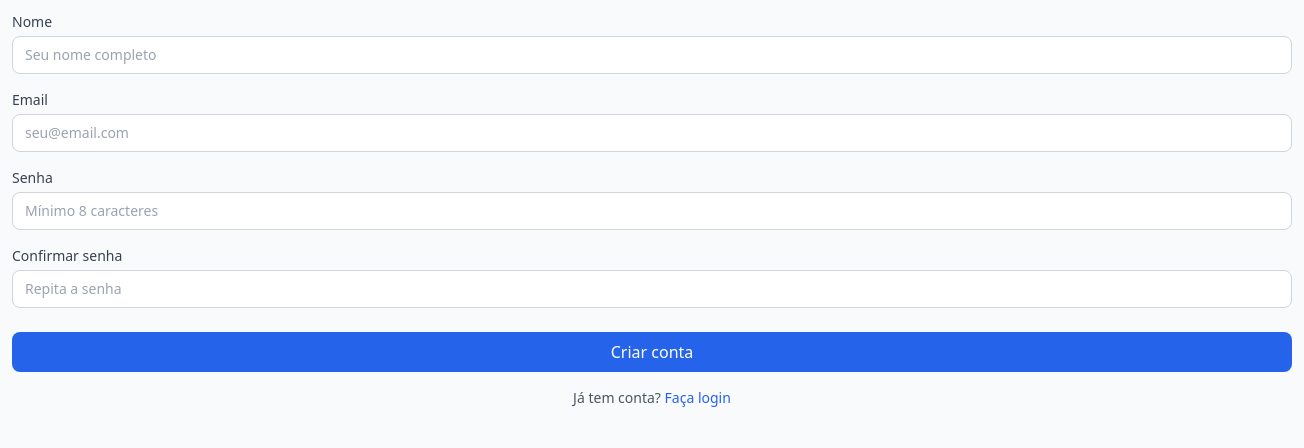
it: RegisterForm › deve exibir erro quando email é inválido
In the field labelled "Nome": (652,55) top-left (12, 36), bottom-right (1292, 74), type "João"
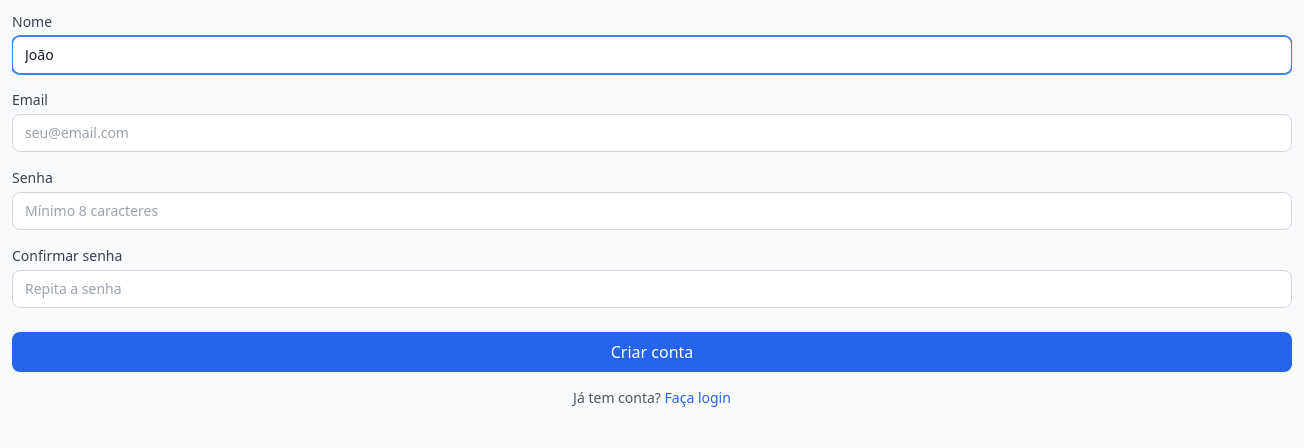
In the field labelled "Email": (652,133) top-left (12, 114), bottom-right (1292, 152), type "invalid"
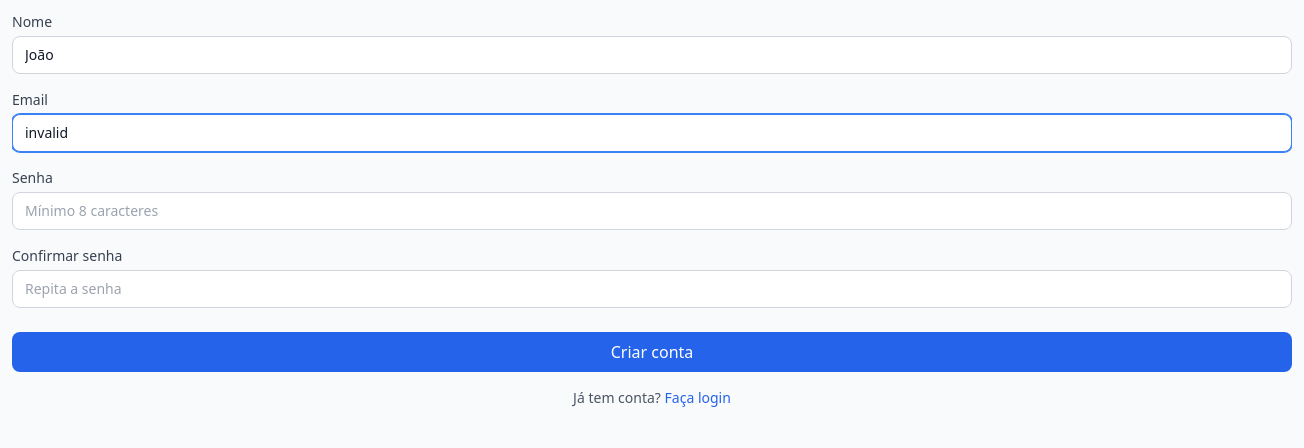
In the password field labelled "Senha": (652,211) top-left (12, 192), bottom-right (1292, 230), type "12345678"
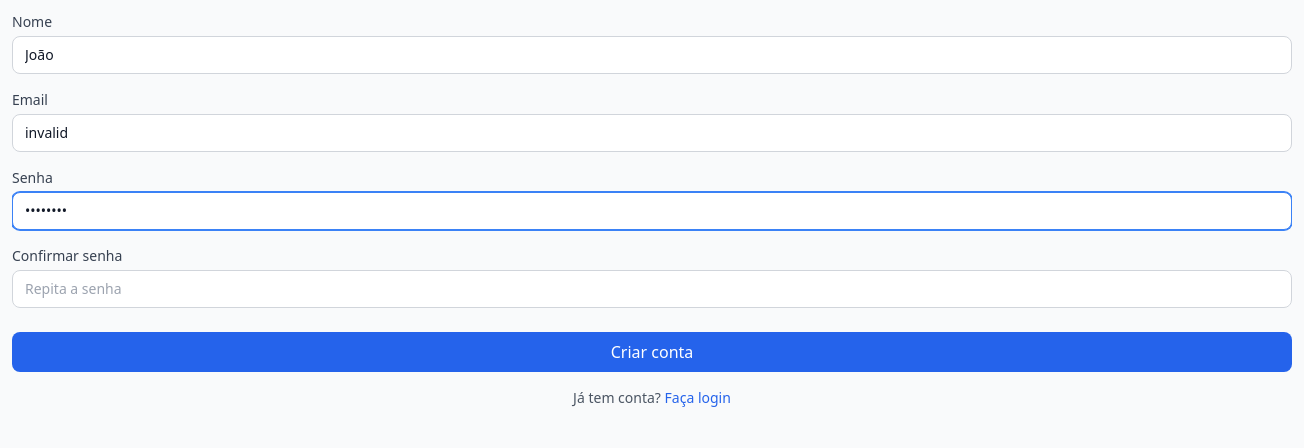
In the password field labelled "Confirmar senha": (652,289) top-left (12, 270), bottom-right (1292, 308), type "12345678"
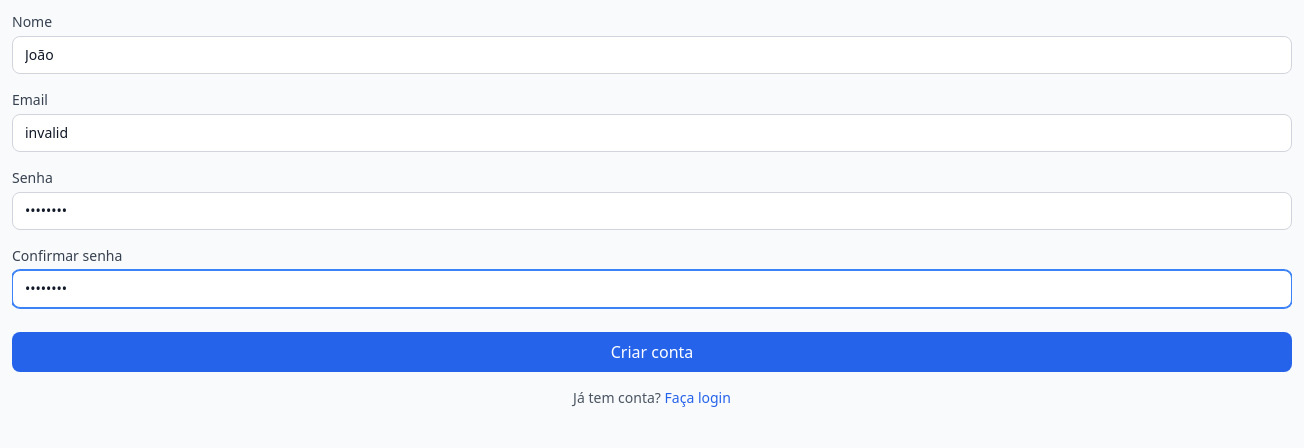
Click the button "Criar conta": (652,352) top-left (12, 332), bottom-right (1292, 372)
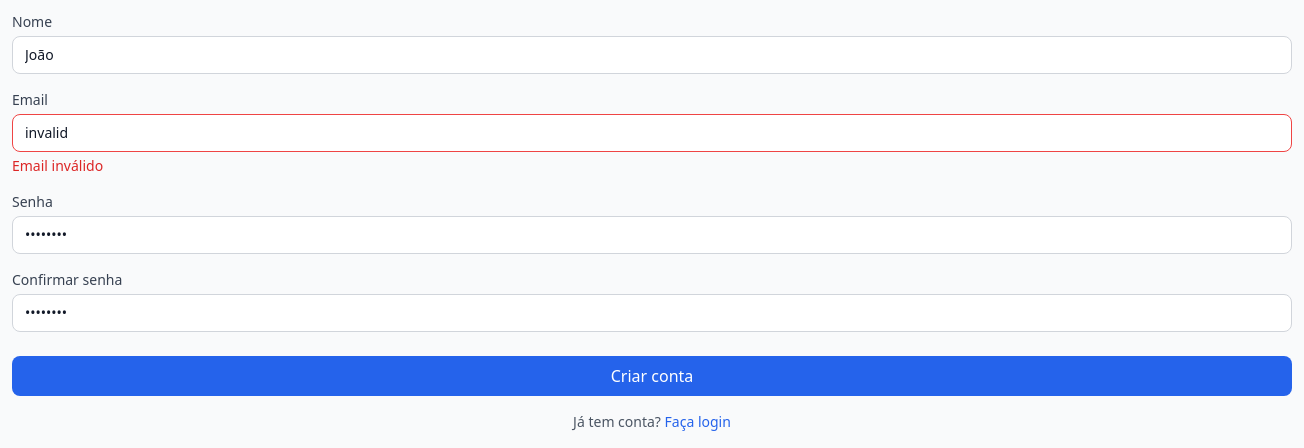
Now the text "Email inválido" is shown, box top-left (12, 156), bottom-right (103, 175)
